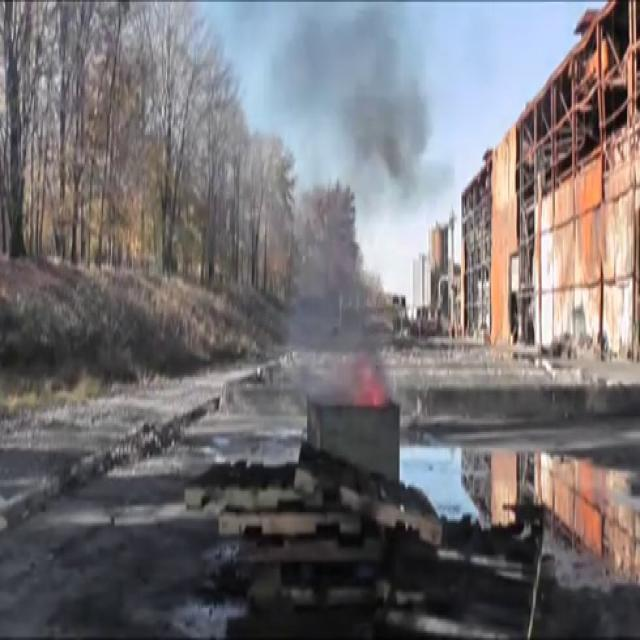Smoke: (288, 0, 442, 382)
